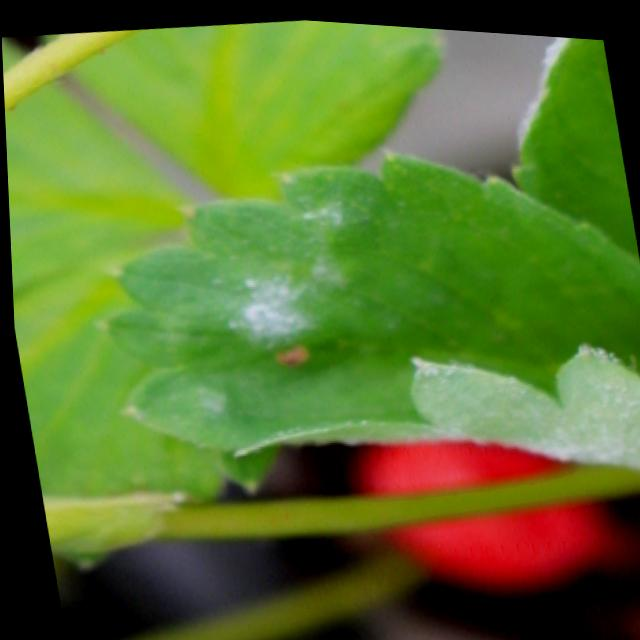Powdery Mildew Leaf: (88, 145, 640, 466), (509, 29, 637, 250)
